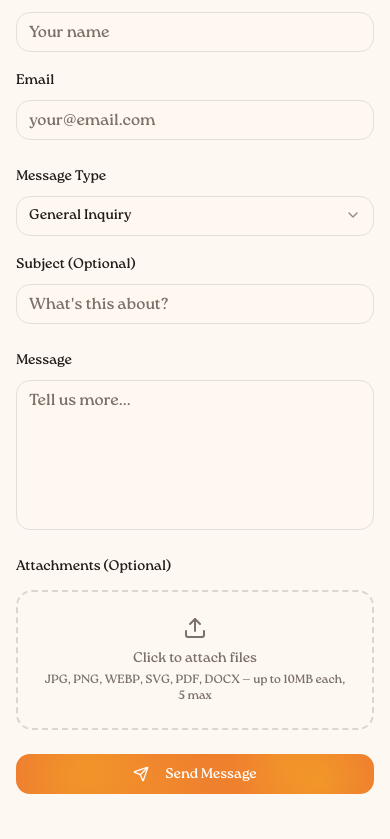
Form Validation - Contact Form › validates required fields
(page scrolled)
Click the button "Send Message". click: [195, 774]
box: 16,754 -> 374,794
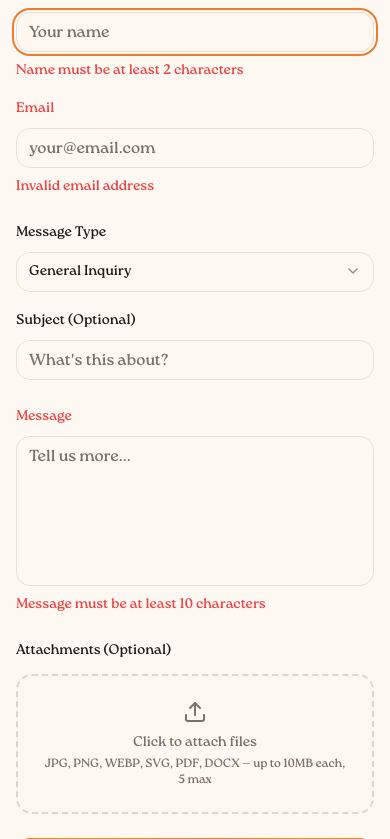
Result: the text "Name must be at least 2 characters" is shown at 16,61 -> 244,79
